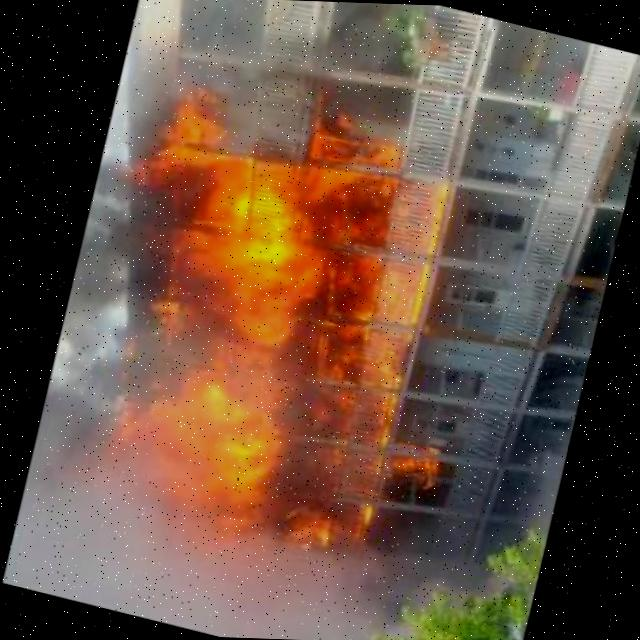fire: (136, 86, 423, 375), (102, 372, 436, 553)
